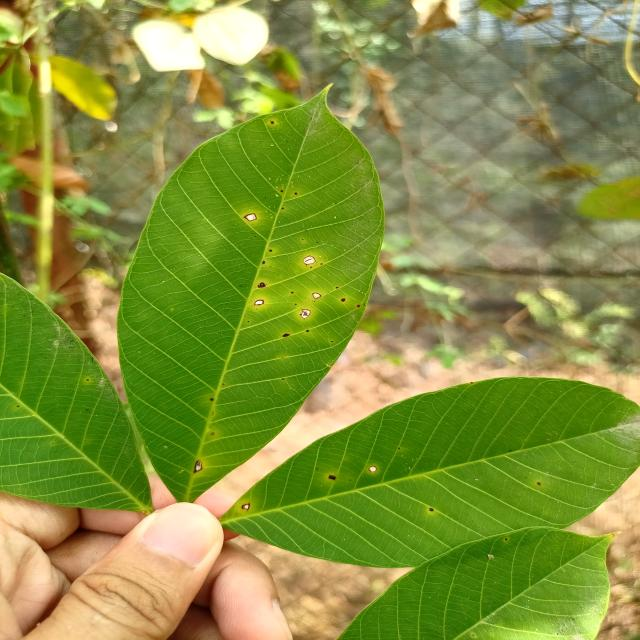Colletotrichum: (302, 256, 316, 266), (194, 460, 203, 472), (244, 214, 257, 222), (300, 309, 310, 319), (254, 300, 264, 306), (312, 293, 322, 299), (242, 503, 250, 510), (368, 466, 377, 472), (258, 282, 266, 288), (328, 475, 336, 480), (341, 298, 346, 302), (356, 304, 361, 308), (429, 508, 434, 512), (211, 432, 215, 436), (269, 249, 273, 252), (262, 261, 266, 264), (537, 482, 541, 485), (210, 398, 213, 401), (294, 193, 298, 195), (280, 190, 283, 192), (306, 330, 309, 332), (222, 383, 225, 385), (282, 208, 284, 210), (320, 263, 322, 265), (310, 266, 312, 268), (336, 287, 339, 288)
